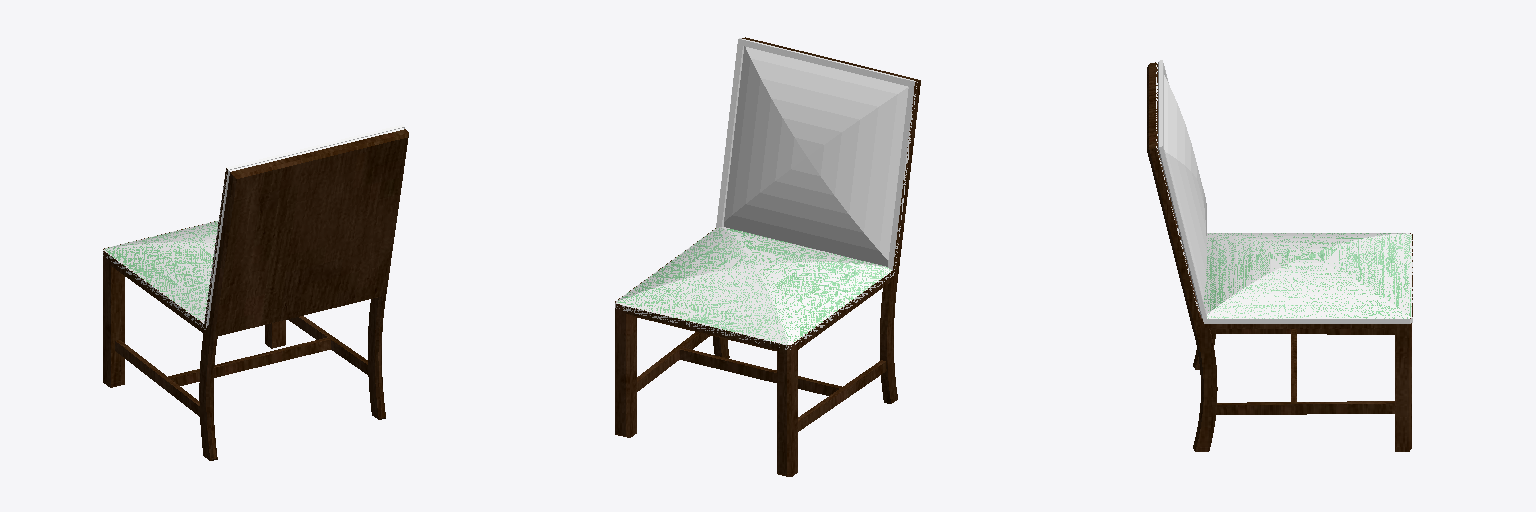
3 views of the same model, side by side, from view 1: azimuth 30°, elevation 25°; view 2: azimuth 150°, elevation 25°; view 3: azimuth 270°, elevation 25° (orthographic).
Parts seen in each view (by area): view 1: mesh1_mesh1-geometry; view 2: mesh1_mesh1-geometry; view 3: mesh1_mesh1-geometry.
Part boxes in pixels (left/top/right/bottom): mesh1_mesh1-geometry: left=103, top=125, right=408, bottom=460; mesh1_mesh1-geometry: left=615, top=37, right=920, bottom=476; mesh1_mesh1-geometry: left=1147, top=60, right=1412, bottom=451.
Size of the model in its own units: 0.4296 by 0.7094 by 0.5587.
6 materials, 2 textured.